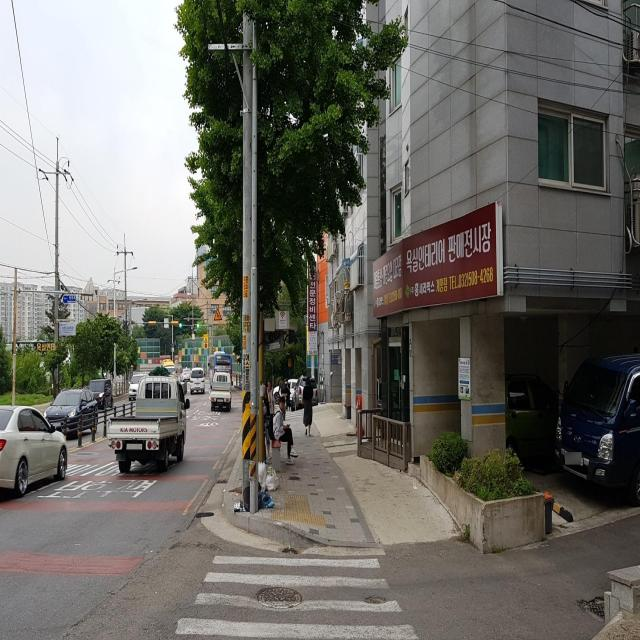횡단보도: (174, 554, 419, 640)
